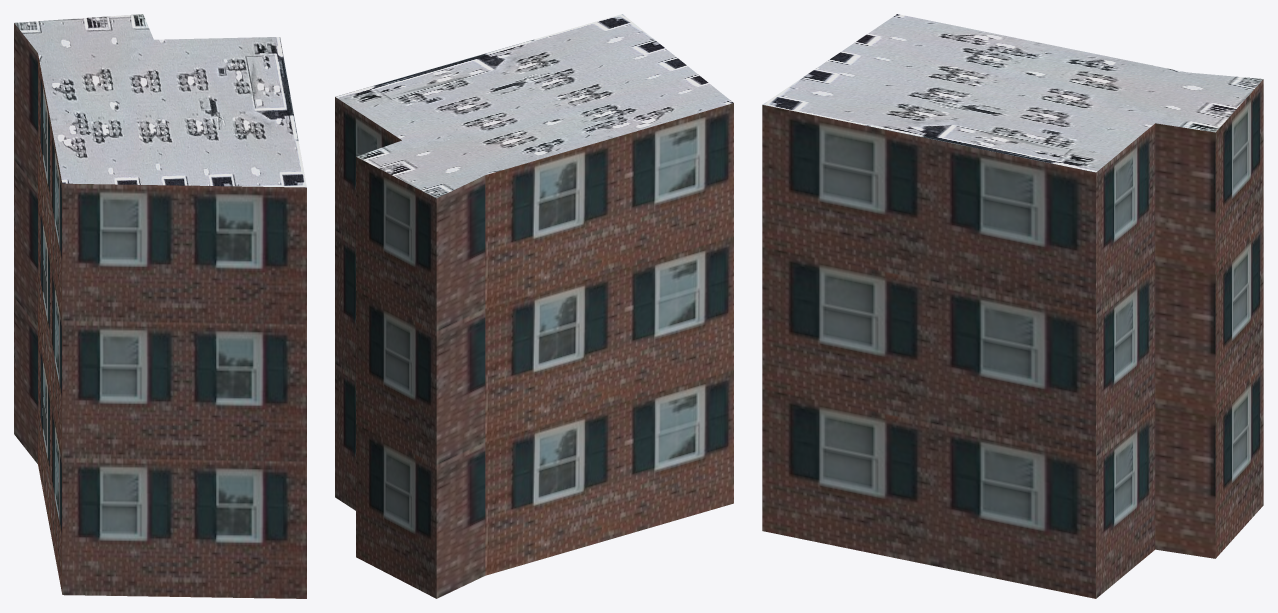
Rendered from ResTex__5094.fbx.
3 renders of one model, left to right at view 1: azimuth 30°, elevation 25°; view 2: azimuth 150°, elevation 25°; view 3: azimuth 270°, elevation 25°, orthographic. The views are drawn at different scales.
Parts seen in each view (by area): view 1: CityEngineMaterial_14_m, CityEngineMaterial_4_m; view 2: CityEngineMaterial_14_m, CityEngineMaterial_4_m; view 3: CityEngineMaterial_14_m, CityEngineMaterial_4_m.
Boxes of the visible parts, left/top/right/bottom form: CityEngineMaterial_14_m: left=14, top=23, right=306, bottom=598; CityEngineMaterial_4_m: left=14, top=14, right=306, bottom=187; CityEngineMaterial_14_m: left=335, top=97, right=733, bottom=598; CityEngineMaterial_4_m: left=335, top=14, right=733, bottom=198; CityEngineMaterial_14_m: left=762, top=79, right=1263, bottom=598; CityEngineMaterial_4_m: left=762, top=14, right=1263, bottom=172.
Size of the model in its own units: 7.18 by 9 by 9.59.
2 materials, 2 textured.
